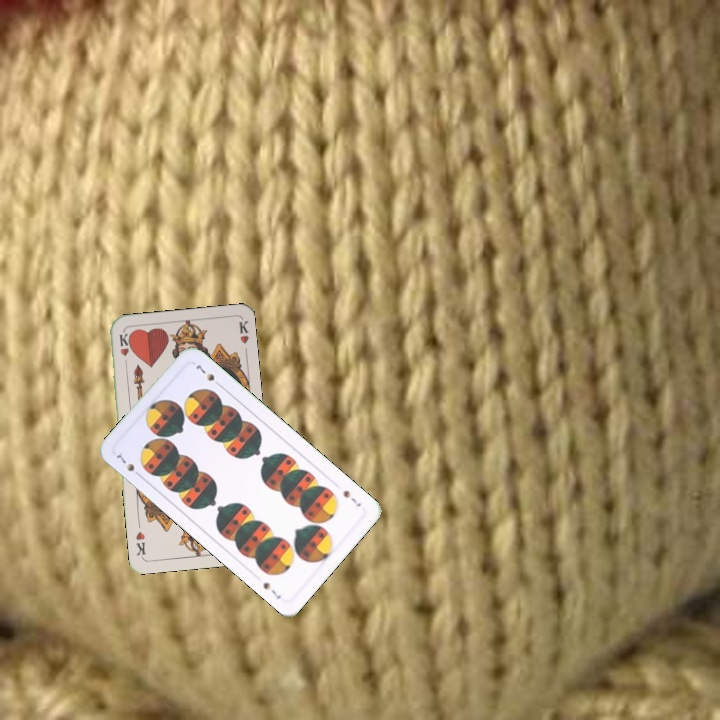HK: (115, 330, 131, 370)
S7: (112, 450, 144, 480), (339, 486, 364, 509)
